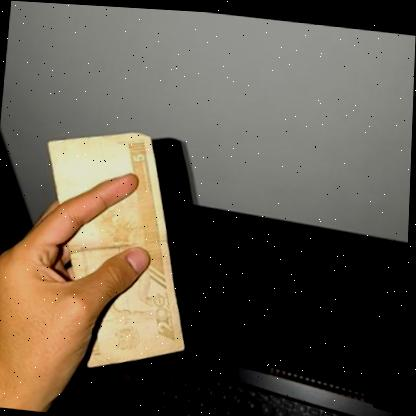five-back-vef: (30, 121, 205, 376)
